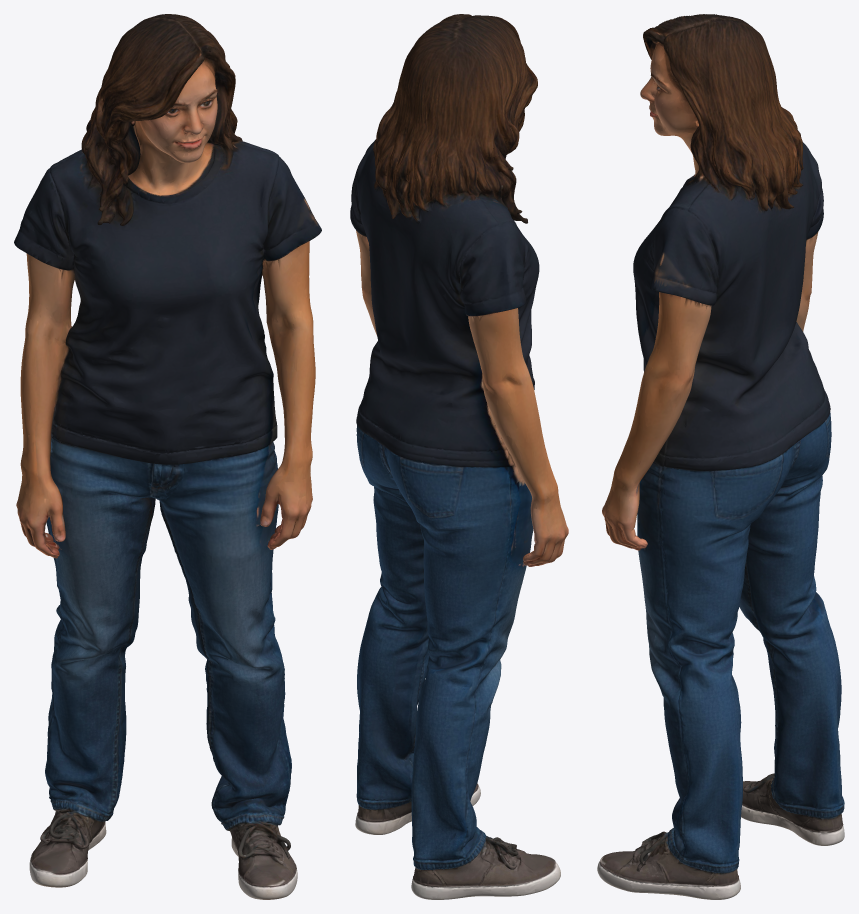
Rendered from Maddie-opt-v1.fbx.
3 renders of one model, left to right at view 1: azimuth 30°, elevation 25°; view 2: azimuth 150°, elevation 25°; view 3: azimuth 270°, elevation 25°, orthographic. The views are drawn at different scales.
Visible parts, largest first — view 1: tripo_node_bc821fbb; view 2: tripo_node_bc821fbb; view 3: tripo_node_bc821fbb.
Part boxes in pixels (x1,y1,x2,y2): tripo_node_bc821fbb: (14,14,321,899); tripo_node_bc821fbb: (350,14,568,899); tripo_node_bc821fbb: (597,14,844,899).
Bounding box in the file's own units: 30.48 × 97.93 × 26.31.
1 material, 1 textured.
